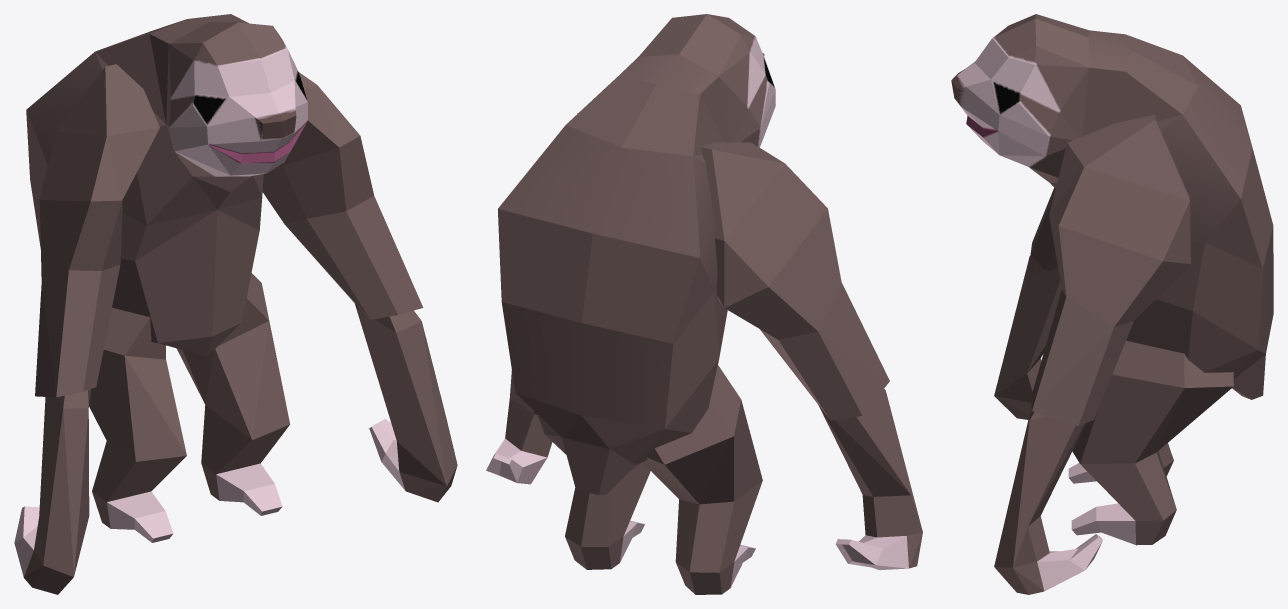
Rendered from sloth model.FBX.
3 views of the same model, side by side, from view 1: azimuth 30°, elevation 25°; view 2: azimuth 150°, elevation 25°; view 3: azimuth 270°, elevation 25° (orthographic). The views are drawn at different scales.
Visible parts, largest first — view 1: Object023; view 2: Object023; view 3: Object023.
Part boxes in pixels (box(x1,y1,x2,y2)): Object023: box(14, 14, 457, 594); Object023: box(486, 14, 922, 594); Object023: box(951, 14, 1273, 594).
Bounding box in the file's own units: 0.0893 × 0.1071 × 0.0634.
